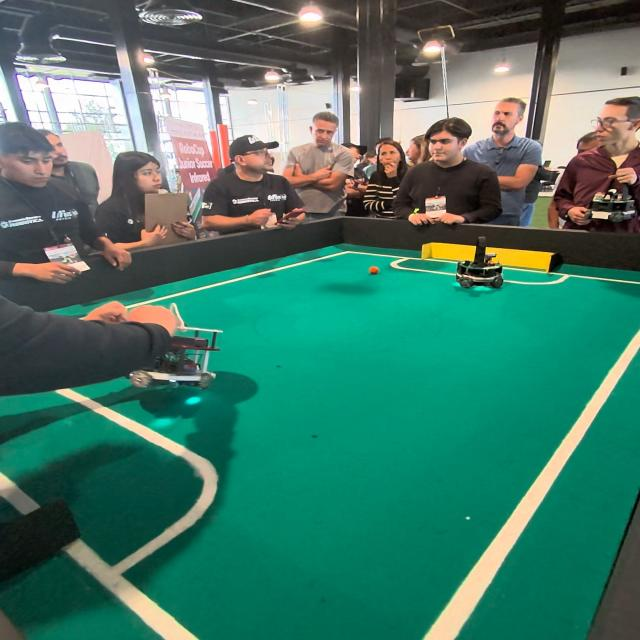Robot: (454, 237, 508, 298)
pelota: (369, 265, 379, 277)
